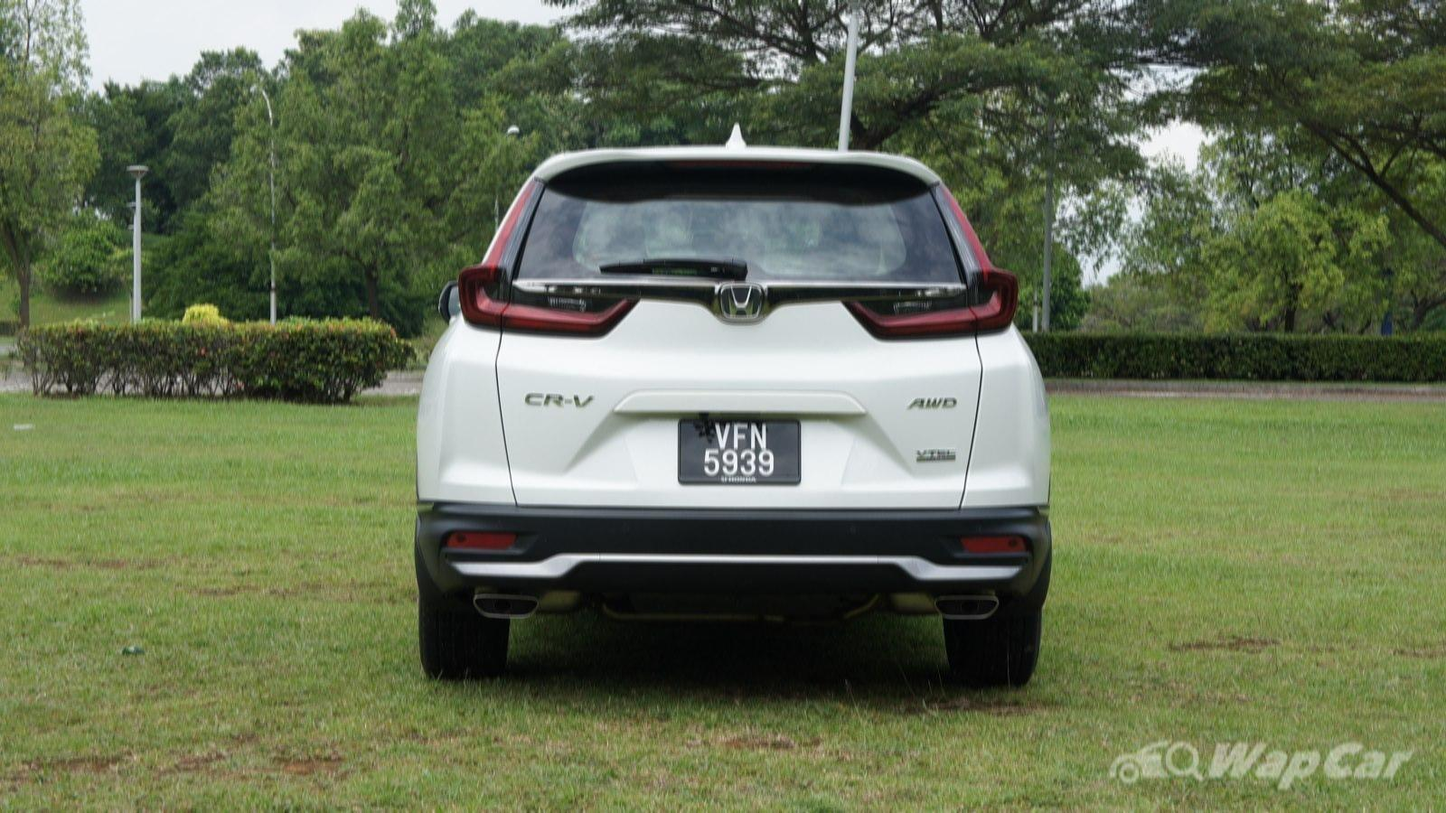Car boot: (495, 145, 989, 532)
Rear bumper: (384, 328, 1065, 639)
Rear light - -L-: (455, 165, 642, 343)
Rear light - -R-: (836, 167, 1024, 345)
Side mirror - -L-: (427, 271, 482, 327)
